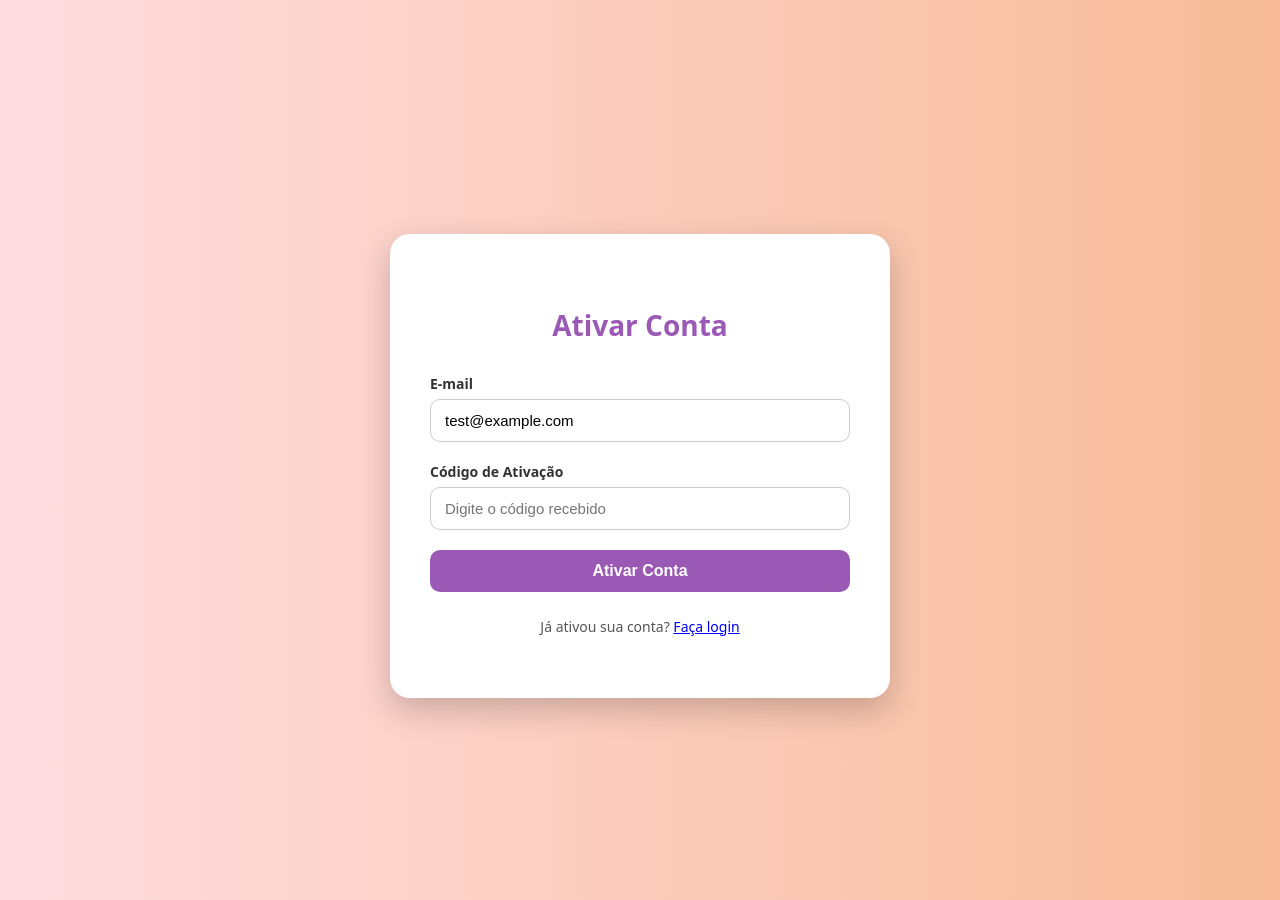
Test: Activate component › exibe mensagem de erro quando falha na ativação
In the field labelled "Código de Ativação": (640,508) x1=430 y1=487 x2=850 y2=530, type "wrong-code"
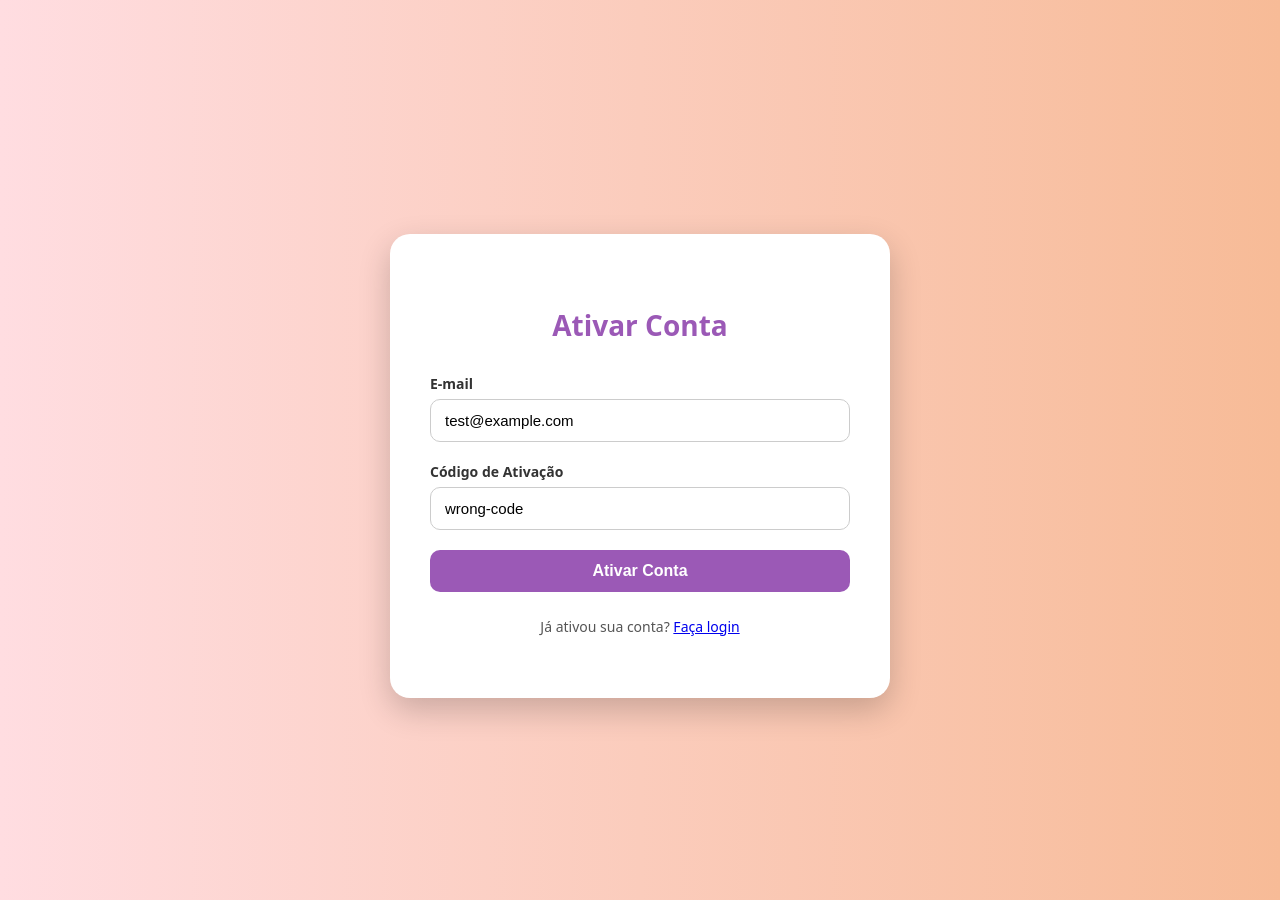
Click the button "Ativar Conta": (640,571) x1=430 y1=550 x2=850 y2=592
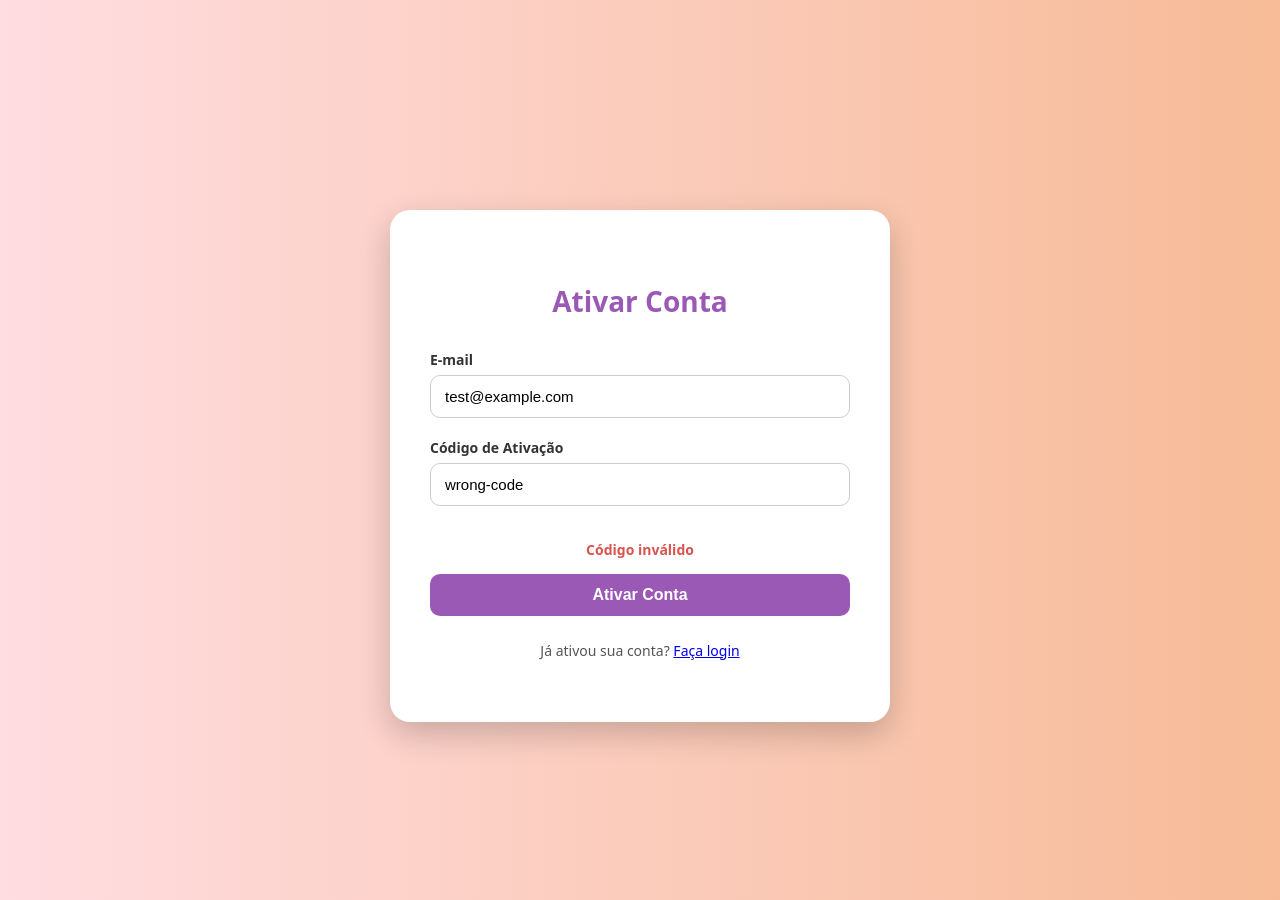
expect the message reads "Código inválido": met, box x1=586 y1=540 x2=694 y2=559
